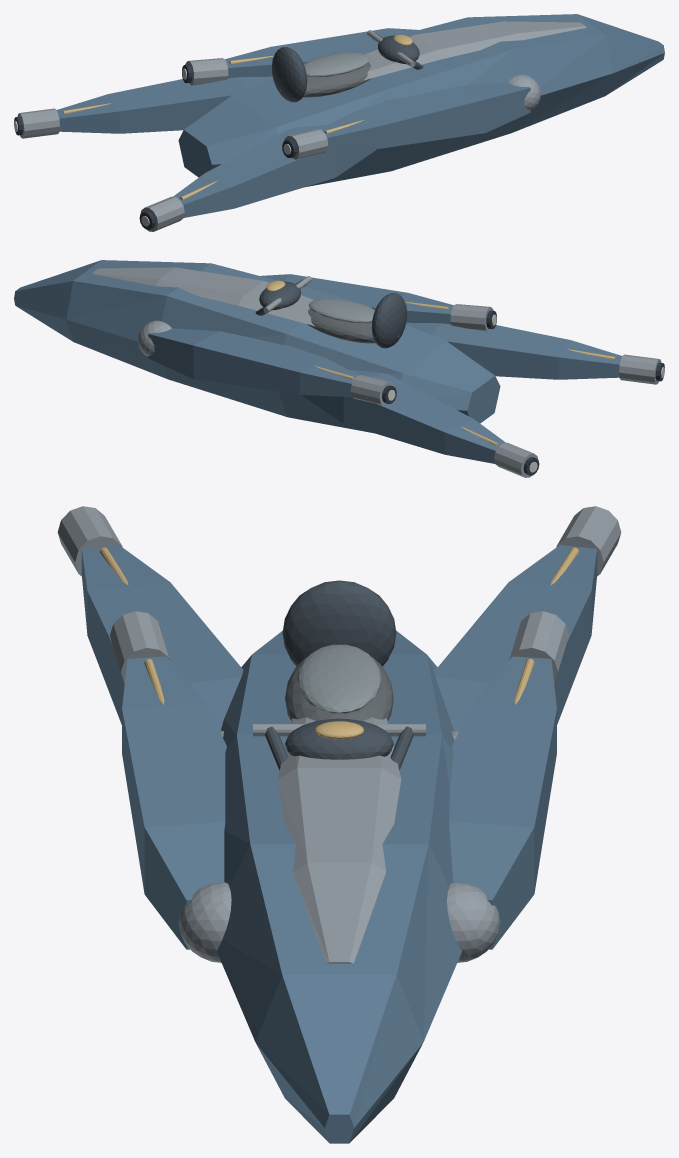
The model's file is busan_pulse_blue_folded.glb.
3 renders of one model, top to bottom at view 1: azimuth 30°, elevation 25°; view 2: azimuth 150°, elevation 25°; view 3: azimuth 270°, elevation 25°, orthographic. The views are drawn at different scales.
Visible parts, largest first — view 1: center_hull_0, rear_wings_7, front_wings_12, central_panel_1, wing_tip_turbine_8, seat_back_3, saddle_pad_13, saddle_2, instrument_cluster_14, wing_tip_nozzle_9, wing_hinges_6, wing_accents_11; view 2: center_hull_0, rear_wings_7, front_wings_12, central_panel_1, wing_tip_turbine_8, seat_back_3, saddle_pad_13, saddle_2, instrument_cluster_14, wing_tip_nozzle_9, wing_hinges_6, wing_accents_11; view 3: center_hull_0, front_wings_12, rear_wings_7, central_panel_1, wing_tip_turbine_8, seat_back_3, wing_hinges_6, saddle_pad_13, instrument_cluster_14, saddle_2, wing_accents_11, handle_support_5.
Part boxes in pixels (left/top/right/bottom): center_hull_0: left=178, top=14, right=664, bottom=187; rear_wings_7: left=56, top=76, right=376, bottom=217; front_wings_12: left=225, top=28, right=530, bottom=151; central_panel_1: left=364, top=21, right=586, bottom=79; wing_tip_turbine_8: left=17, top=58, right=328, bottom=231; seat_back_3: left=271, top=47, right=307, bottom=102; saddle_pad_13: left=303, top=52, right=369, bottom=77; saddle_2: left=279, top=62, right=371, bottom=97; instrument_cluster_14: left=378, top=35, right=419, bottom=64; wing_tip_nozzle_9: left=14, top=64, right=296, bottom=229; wing_hinges_6: left=507, top=74, right=540, bottom=110; wing_accents_11: left=63, top=55, right=363, bottom=199; center_hull_0: left=14, top=260, right=500, bottom=433; rear_wings_7: left=302, top=322, right=622, bottom=463; front_wings_12: left=148, top=274, right=453, bottom=397; central_panel_1: left=92, top=267, right=314, bottom=325; wing_tip_turbine_8: left=350, top=304, right=661, bottom=477; seat_back_3: left=371, top=293, right=407, bottom=348; saddle_pad_13: left=309, top=298, right=375, bottom=323; saddle_2: left=307, top=308, right=399, bottom=343; instrument_cluster_14: left=259, top=281, right=300, bottom=310; wing_tip_nozzle_9: left=382, top=310, right=664, bottom=475; wing_hinges_6: left=138, top=320, right=171, bottom=356; wing_accents_11: left=315, top=301, right=615, bottom=445; center_hull_0: left=216, top=630, right=462, bottom=1143; front_wings_12: left=122, top=656, right=556, bottom=949; rear_wings_7: left=81, top=545, right=597, bottom=730; central_panel_1: left=277, top=717, right=401, bottom=963; wing_tip_turbine_8: left=57, top=506, right=621, bottom=682; seat_back_3: left=282, top=580, right=396, bottom=666; wing_hinges_6: left=178, top=730, right=500, bottom=962; saddle_pad_13: left=297, top=644, right=381, bottom=713; instrument_cluster_14: left=285, top=718, right=393, bottom=759; saddle_2: left=285, top=657, right=393, bottom=721; wing_accents_11: left=100, top=547, right=578, bottom=704; handle_support_5: left=265, top=726, right=413, bottom=770.
Bounding box in the file's own units: 5.43 × 1.1 × 2.28.
